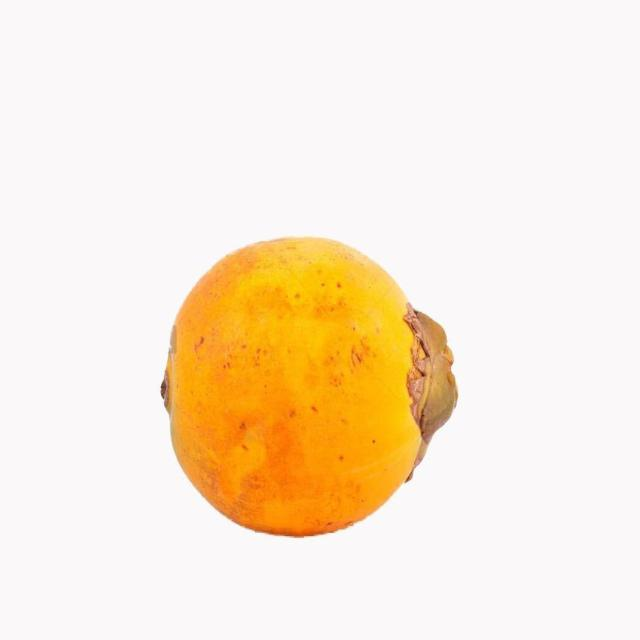good: (160, 237, 459, 540)
